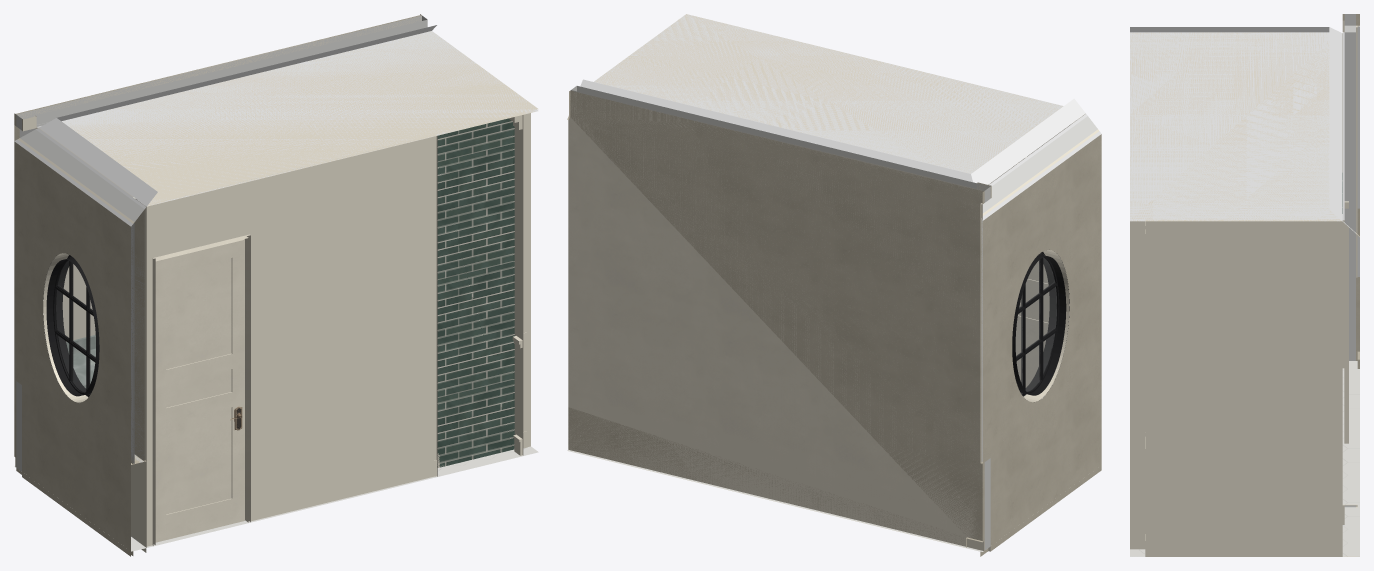
Rendered from green-bath-0ad8085e243b.glb.
3 views of the same model, side by side, from view 1: azimuth 30°, elevation 25°; view 2: azimuth 150°, elevation 25°; view 3: azimuth 270°, elevation 25° (orthographic). The views are drawn at different scales.
Parts seen in each view (by area): view 1: green-bath-b6ab44e8ab2b63f4, green-bath-e8793759323e04f0, green-bath-9d91b47435c6fb33, green-bath-235bf0030923b7b8, green-bath-5e646f76b0244fe8, green-bath-312b4ac1be39223d, green-bath-33ee0b466567e5f0, green-bath-9a6873bb27e0e1d8, green-bath-8d8280a2b3ef8b4c, green-bath-ab9cb37e14e8bf16, green-bath-3a4d9d62ecd7be1c, green-bath-39b94aca90fa4b53 (+7 smaller); view 2: green-bath-bd62734a7bc60eb7, green-bath-ca9c0b57f88e5741, green-bath-9d91b47435c6fb33, green-bath-e8793759323e04f0, green-bath-312b4ac1be39223d, green-bath-33ee0b466567e5f0, green-bath-ab9cb37e14e8bf16, green-bath-9a6873bb27e0e1d8, green-bath-af51553f3bbf098a, green-bath-39b94aca90fa4b53, green-bath-5e646f76b0244fe8, green-bath-80d7956de169033e (+1 smaller); view 3: green-bath-4fe5579be934d30a, green-bath-9d91b47435c6fb33, green-bath-e8793759323e04f0, green-bath-689020e0fc226264, green-bath-6ffca0ecbe7bb20f, green-bath-39b94aca90fa4b53, green-bath-7261ca91c9d343ad, green-bath-9a6873bb27e0e1d8, green-bath-82fe871d7bda5383, green-bath-312b4ac1be39223d, green-bath-6852ef8a5e690845, green-bath-bd62734a7bc60eb7 (+1 smaller).
Part boxes in pixels (box(x1,y1,x2,y2)): green-bath-b6ab44e8ab2b63f4: box(138, 136, 437, 547); green-bath-e8793759323e04f0: box(42, 25, 537, 204); green-bath-9d91b47435c6fb33: box(39, 31, 537, 206); green-bath-235bf0030923b7b8: box(437, 118, 513, 467); green-bath-5e646f76b0244fe8: box(155, 239, 244, 542); green-bath-312b4ac1be39223d: box(14, 125, 133, 464); green-bath-33ee0b466567e5f0: box(22, 386, 146, 556); green-bath-9a6873bb27e0e1d8: box(16, 15, 427, 471); green-bath-8d8280a2b3ef8b4c: box(515, 109, 538, 455); green-bath-ab9cb37e14e8bf16: box(43, 254, 99, 397); green-bath-3a4d9d62ecd7be1c: box(35, 127, 146, 461); green-bath-39b94aca90fa4b53: box(19, 128, 144, 463); green-bath-bd62734a7bc60eb7: box(567, 91, 983, 547); green-bath-ca9c0b57f88e5741: box(568, 90, 984, 550); green-bath-9d91b47435c6fb33: box(594, 14, 1085, 184); green-bath-e8793759323e04f0: box(580, 14, 1083, 183); green-bath-312b4ac1be39223d: box(981, 131, 1101, 463); green-bath-33ee0b466567e5f0: box(988, 377, 1101, 551); green-bath-ab9cb37e14e8bf16: box(1012, 252, 1069, 397); green-bath-9a6873bb27e0e1d8: box(571, 86, 990, 550); green-bath-af51553f3bbf098a: box(1016, 253, 1056, 393); green-bath-39b94aca90fa4b53: box(982, 116, 1097, 213); green-bath-5e646f76b0244fe8: box(988, 163, 1049, 387); green-bath-80d7956de169033e: box(1012, 249, 1069, 402); green-bath-4fe5579be934d30a: box(1145, 214, 1342, 556); green-bath-9d91b47435c6fb33: box(1130, 32, 1342, 221); green-bath-e8793759323e04f0: box(1130, 27, 1340, 219); green-bath-689020e0fc226264: box(1130, 221, 1145, 549); green-bath-6ffca0ecbe7bb20f: box(1130, 361, 1359, 556); green-bath-39b94aca90fa4b53: box(1344, 28, 1355, 282); green-bath-7261ca91c9d343ad: box(1344, 201, 1348, 443); green-bath-9a6873bb27e0e1d8: box(1344, 14, 1355, 556); green-bath-82fe871d7bda5383: box(1342, 14, 1344, 556); green-bath-312b4ac1be39223d: box(1357, 26, 1359, 276); green-bath-6852ef8a5e690845: box(1356, 27, 1357, 277); green-bath-bd62734a7bc60eb7: box(1357, 14, 1359, 368).
Size of the model in its own units: 3.62 by 3.04 by 1.8.
Materials: 32 (6 with a texture image).
